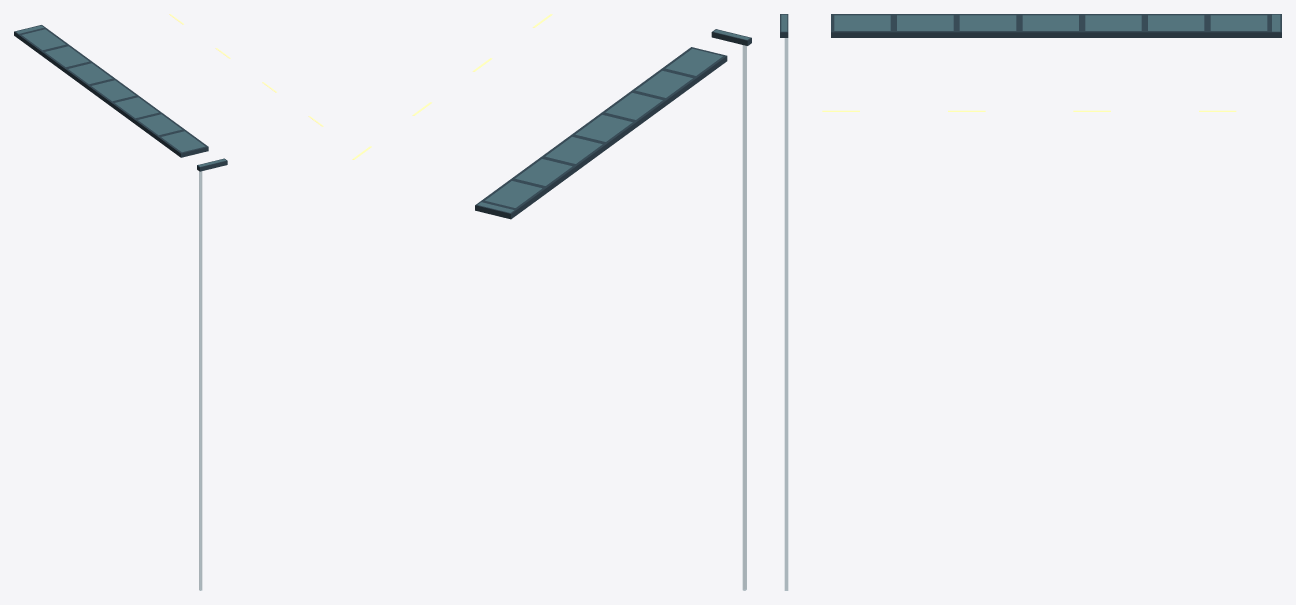
Rendered from station-pavilion-notched-roof.glb.
The picture shows the model from 3 angles, left to right: view 1: azimuth 30°, elevation 25°; view 2: azimuth 150°, elevation 25°; view 3: azimuth 270°, elevation 25°; orthographic projection. The views are drawn at different scales.
Visible parts, largest first — view 1: station-pavilion-notched-roof; view 2: station-pavilion-notched-roof; view 3: station-pavilion-notched-roof.
Part boxes in pixels (x1,y1,x2,y2): station-pavilion-notched-roof: [14, 14, 323, 590]; station-pavilion-notched-roof: [352, 14, 751, 590]; station-pavilion-notched-roof: [780, 14, 1281, 590].
Size of the model in its own units: 6.94 by 20.2 by 16.
